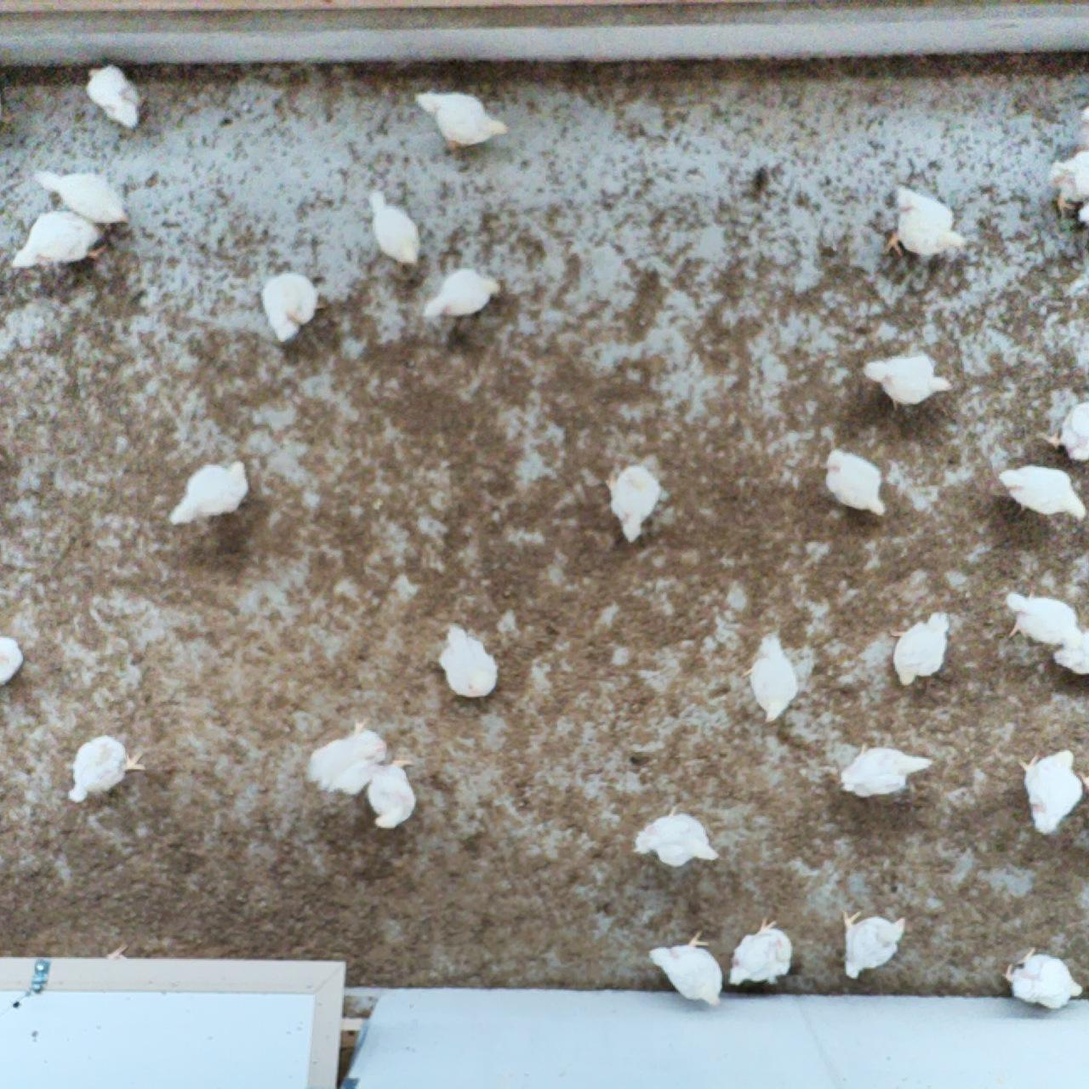chicken: (879, 183, 973, 264), (8, 207, 115, 278), (300, 712, 389, 797), (410, 84, 512, 155), (644, 927, 728, 1010), (835, 738, 935, 807), (30, 164, 134, 229), (856, 345, 956, 412), (1015, 744, 1086, 837), (65, 731, 150, 808), (738, 627, 802, 728), (630, 801, 722, 871), (993, 459, 1089, 526), (363, 183, 426, 284), (165, 457, 253, 529), (999, 941, 1083, 1013), (603, 455, 670, 544), (818, 443, 891, 520), (259, 267, 330, 346), (435, 622, 501, 706), (884, 608, 953, 688), (839, 905, 909, 982), (727, 915, 797, 991), (419, 264, 504, 326), (81, 60, 148, 133), (366, 754, 420, 835), (1009, 590, 1083, 647), (1044, 144, 1089, 224), (1037, 395, 1089, 463), (1052, 620, 1089, 680), (0, 631, 26, 689)
